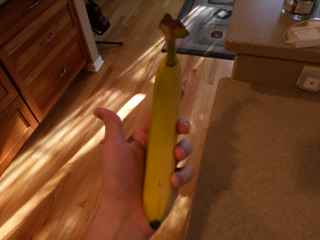banana: (140, 12, 192, 231)
